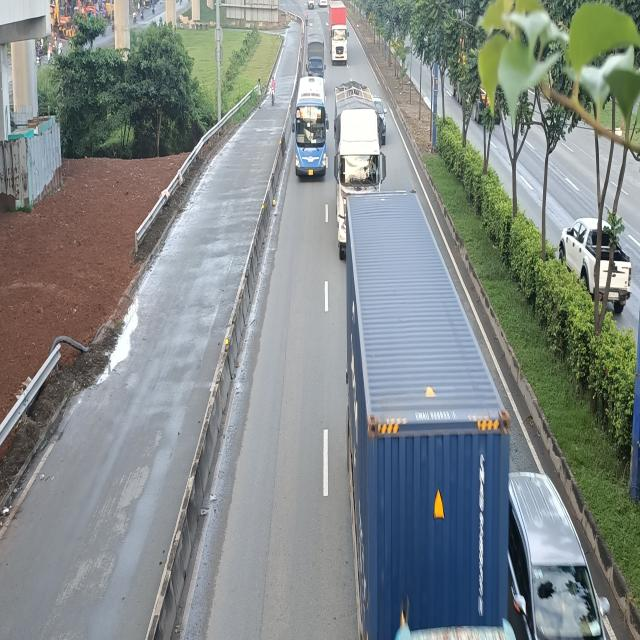car: (510, 471, 614, 640)
coach: (291, 74, 329, 178)
container: (341, 196, 514, 640), (331, 2, 350, 63)
truck: (334, 89, 385, 255)
